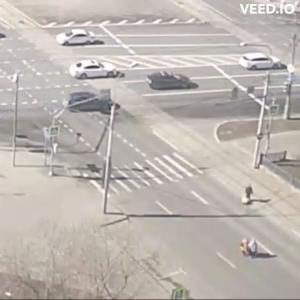car: (69, 91, 114, 115), (146, 72, 199, 91), (70, 60, 117, 81), (58, 32, 104, 48), (241, 54, 280, 71)
